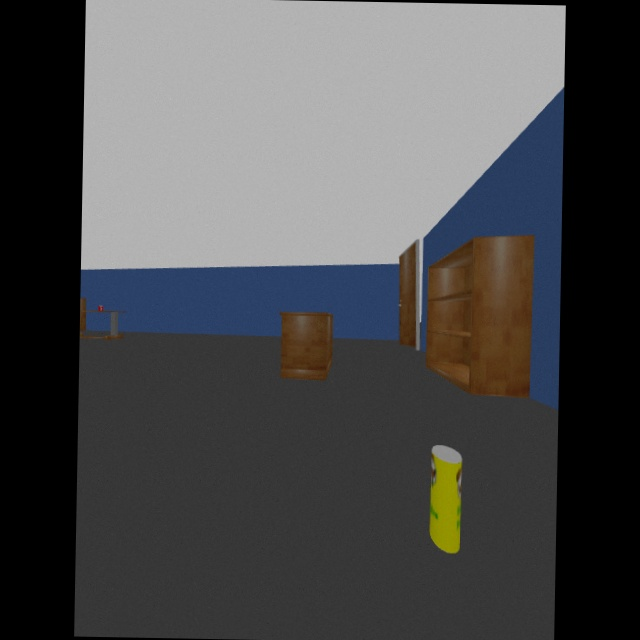chipsdose_gelb: (429, 444, 462, 553)
